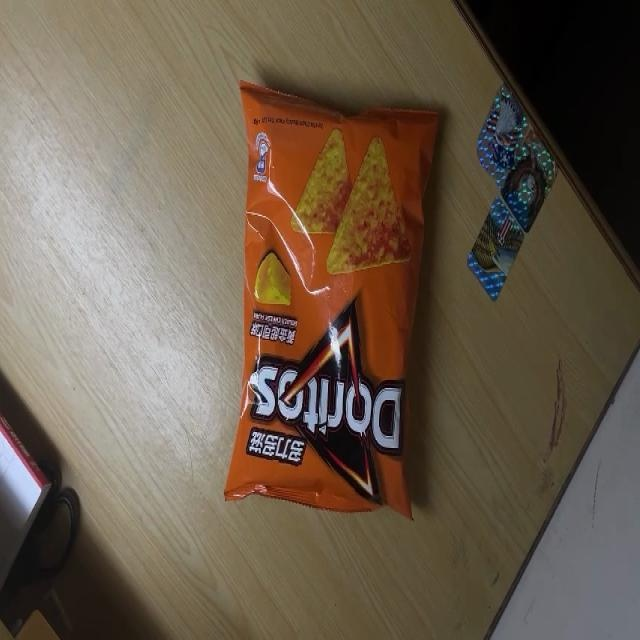Doritos: (222, 79, 443, 525)
